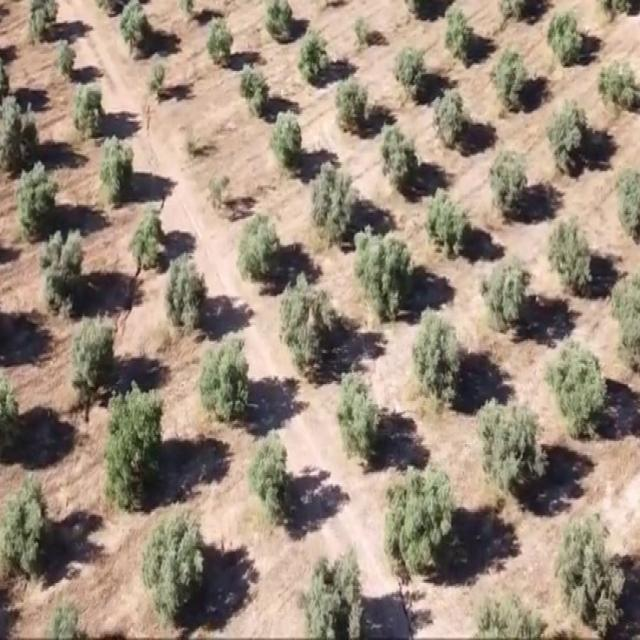trees: (539, 501, 621, 640), (98, 368, 173, 516), (380, 450, 460, 585), (473, 383, 544, 511), (274, 259, 344, 386), (140, 504, 210, 629), (291, 541, 377, 639), (347, 208, 416, 327), (402, 294, 467, 412), (0, 467, 64, 583), (541, 335, 601, 452), (323, 359, 386, 465), (476, 241, 540, 344), (240, 418, 298, 529), (194, 327, 254, 431), (64, 304, 125, 406), (304, 150, 357, 257), (420, 170, 476, 268), (31, 228, 88, 320), (542, 209, 599, 299), (535, 84, 590, 177), (88, 122, 144, 213), (479, 41, 534, 132), (233, 202, 285, 298), (160, 251, 211, 334), (18, 159, 65, 243), (487, 135, 535, 217), (330, 60, 376, 144), (129, 191, 172, 277), (542, 5, 593, 76), (374, 114, 419, 194), (0, 93, 45, 168), (592, 44, 640, 114), (264, 100, 306, 179), (389, 27, 433, 100), (230, 57, 274, 126), (199, 2, 238, 78), (119, 0, 163, 66), (437, 0, 476, 69), (71, 72, 111, 138), (430, 86, 470, 151), (25, 0, 64, 50), (264, 0, 300, 54), (54, 32, 78, 88), (144, 61, 166, 103)
